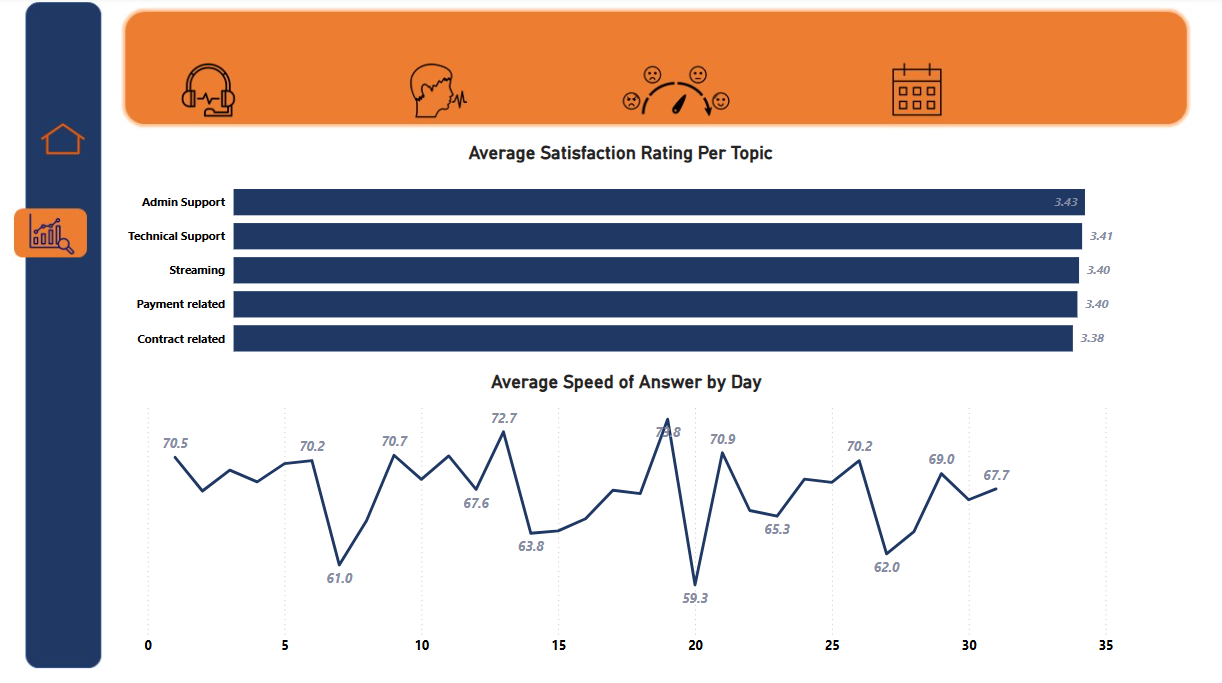

What the dashboard file says about the page in this screenshot:
{"tool":"powerbi","page":{"name":" Dashboard2","canvas":[1280,720],"ordinal":2},"visuals":[{"type":"barChart","title":"Average Satisfaction Rating Per Topic","fields":{"Category":["Sheet1.Topic"],"Y":["Avg(Sheet1.Satisfaction rating)"]},"box":[131.3,151.6,1040.9,239.1],"z":0},{"type":"lineChart","title":"Average Speed of Answer by Day","fields":{"Category":["Sheet1.Date.Variation.Date Hierarchy.Day"],"Y":["Sheet1.Average Speed of Answer in Seconds"]},"box":[143.8,390.7,1028.4,304.8],"z":1000}]}

Visuals, with their boxes on the page's 1280x720 design canvas (x1, y1, x2, y2). These are canvas units, not pixel positions in the 1222x683 screenshot, which may show the page scaled, cropped or inside an application window:
"Average Satisfaction Rating Per Topic" barChart: 131:152:1172:391
"Average Speed of Answer by Day" lineChart: 144:391:1172:696
